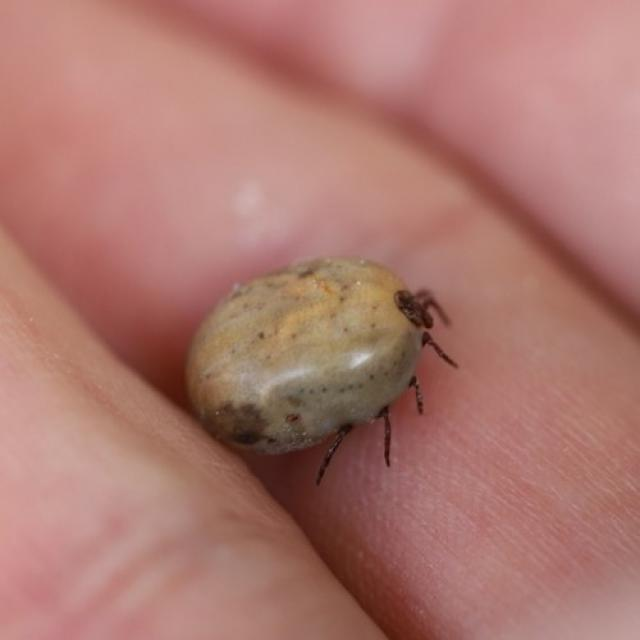Dermacentor Reticulatus-F-Fed: (184, 255, 457, 483)
